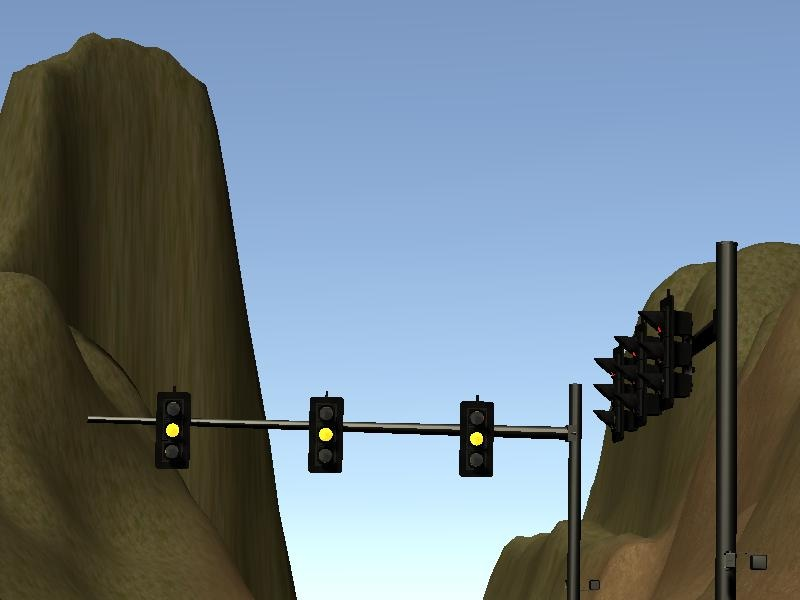yellow: (155, 392, 189, 470), (309, 398, 344, 473), (460, 400, 494, 477)
